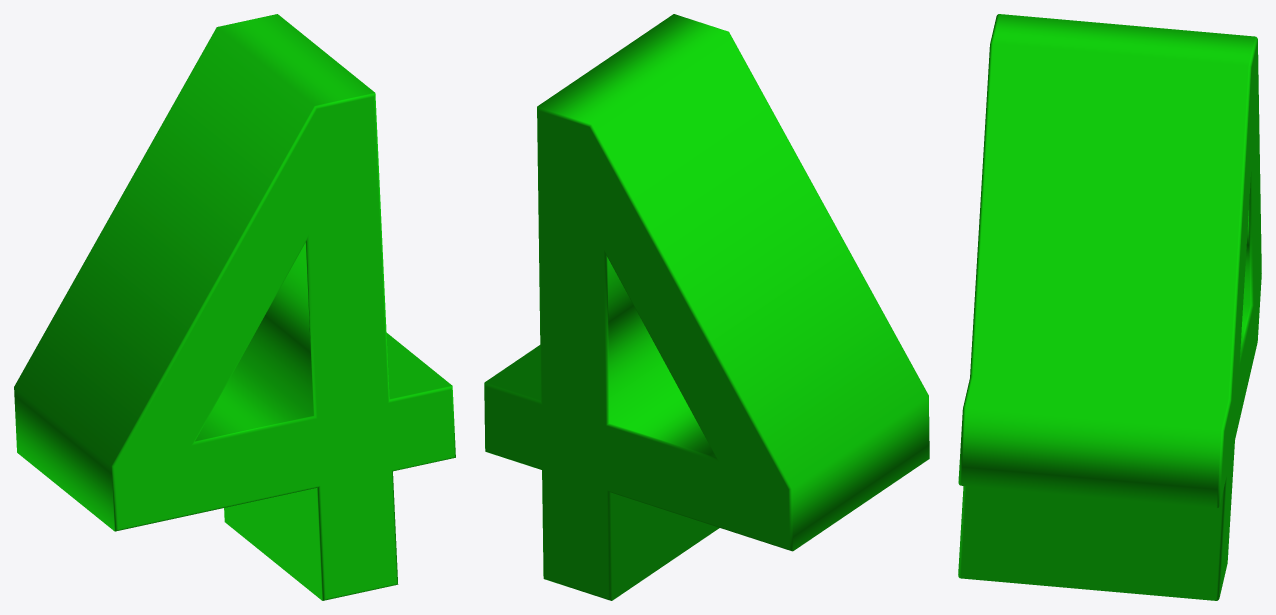
The picture shows the model from 3 angles, left to right: view 1: azimuth 30°, elevation 25°; view 2: azimuth 150°, elevation 25°; view 3: azimuth 270°, elevation 25°; orthographic projection. The views are drawn at different scales.
Parts seen in each view (by area): view 1: Text; view 2: Text; view 3: Text.
Part boxes in pixels (<box>): Text: <box>14,14,455,600</box>; Text: <box>484,14,929,600</box>; Text: <box>958,14,1261,600</box>.
Bounding box in the file's own units: 102 × 140 × 70.88.
